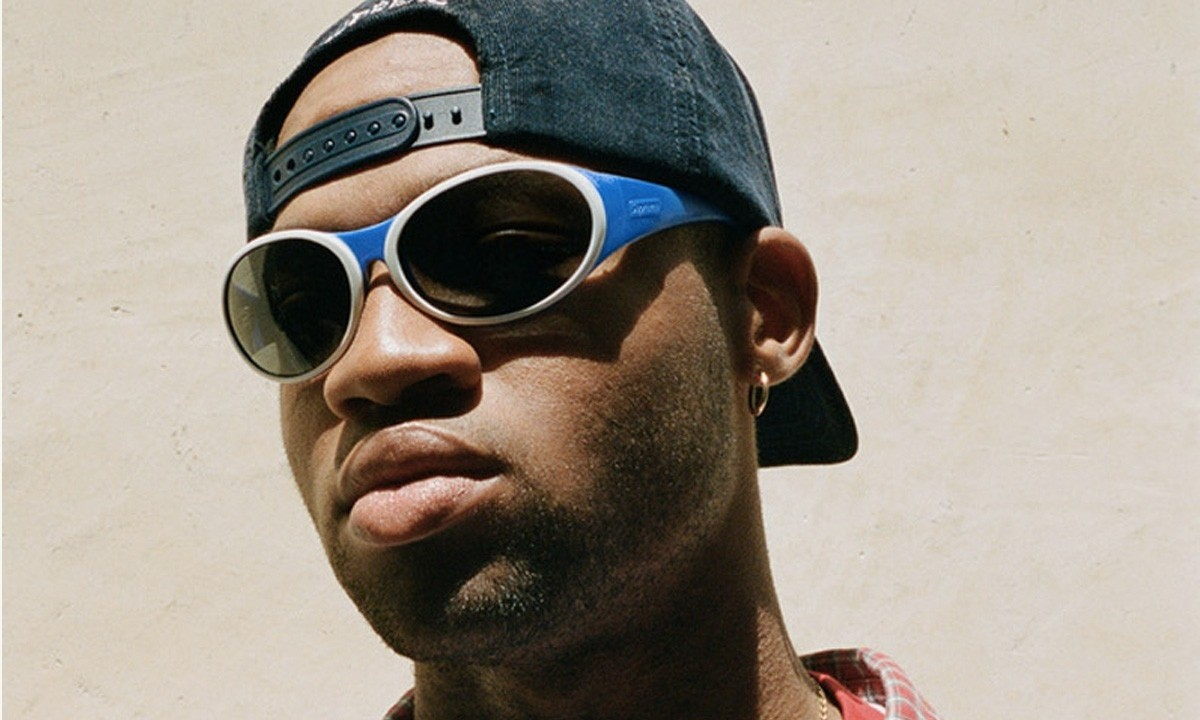face_no_mask: (235, 1, 767, 662)
